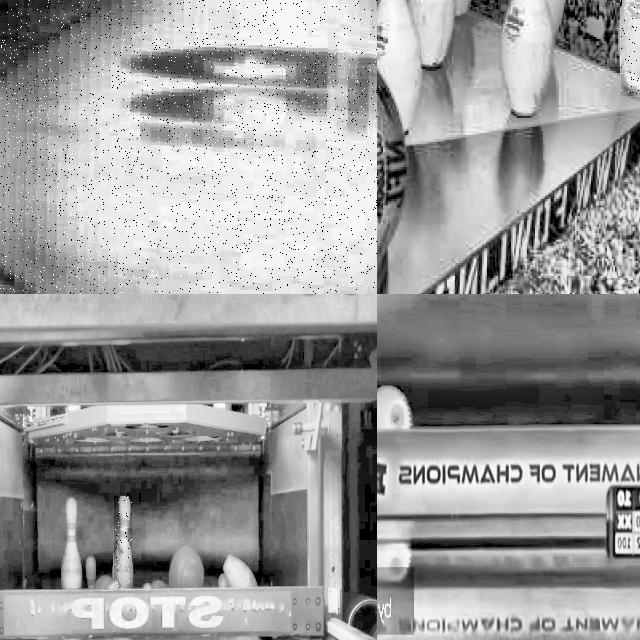bowling-ball: (169, 546, 204, 587)
bowling-pins: (501, 0, 554, 117), (377, 0, 420, 130), (411, 0, 453, 68), (61, 498, 81, 589), (115, 496, 132, 586)
sweep board: (377, 426, 640, 518), (0, 588, 324, 640)
